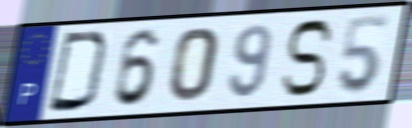0: (166, 25, 222, 104)
5: (338, 11, 393, 98)
6: (111, 26, 163, 110)
9: (225, 23, 274, 101)
D: (45, 30, 113, 115)
S: (278, 17, 336, 100)
